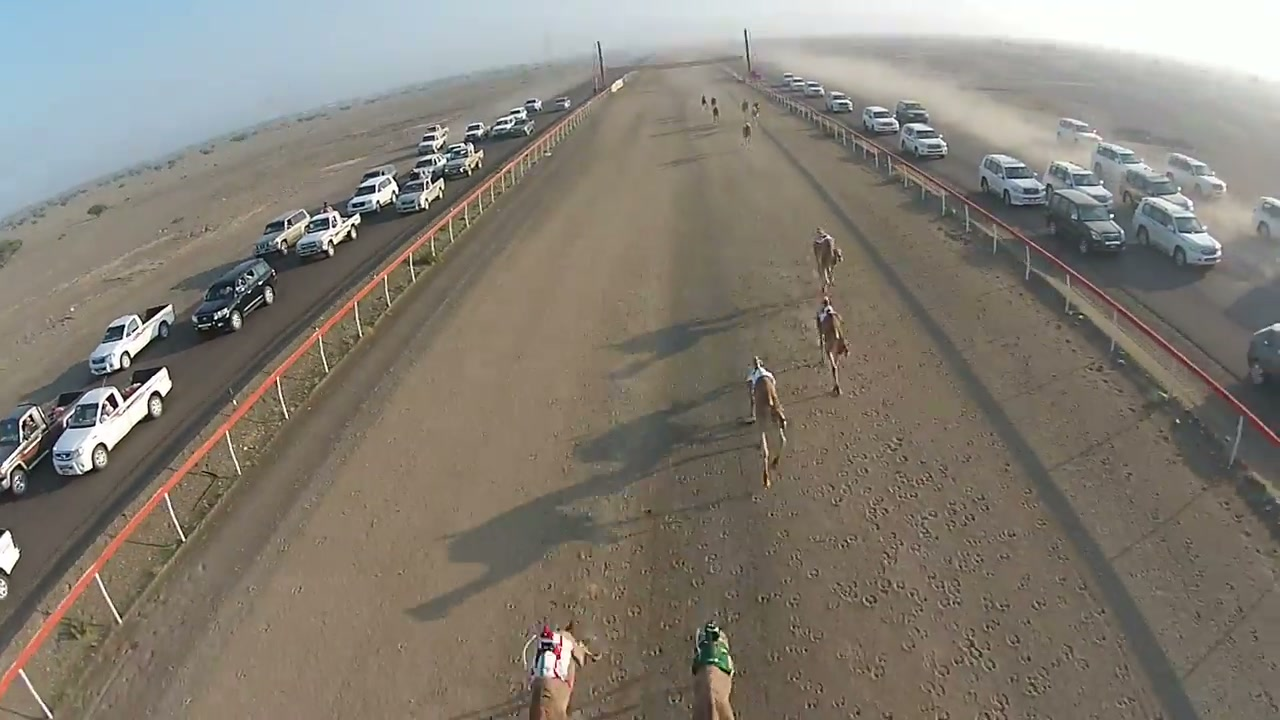animal_footprint: (779, 397, 1064, 713), (591, 495, 797, 713)
